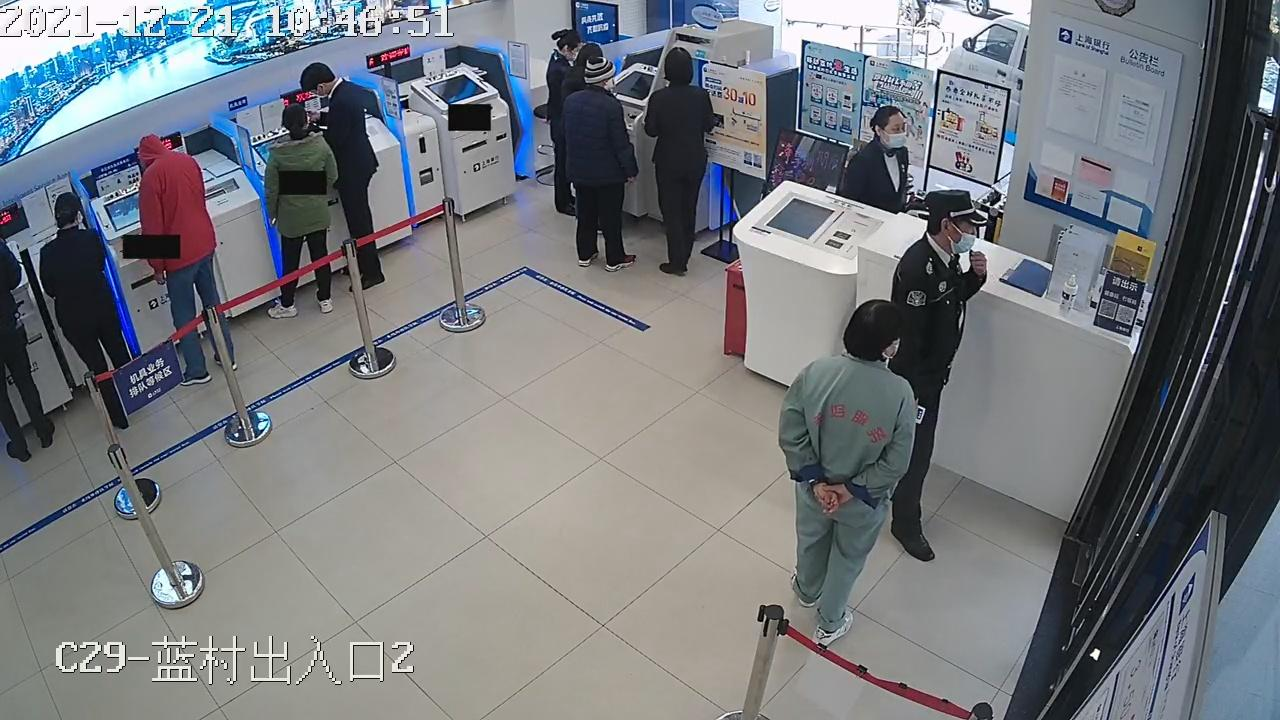person: (779, 297, 918, 650), (887, 189, 989, 561), (132, 130, 235, 384), (41, 191, 134, 434), (300, 60, 386, 293), (642, 47, 717, 278), (565, 57, 638, 273), (265, 101, 336, 319), (0, 219, 56, 460), (840, 106, 918, 214), (545, 29, 587, 217), (547, 27, 587, 215)
